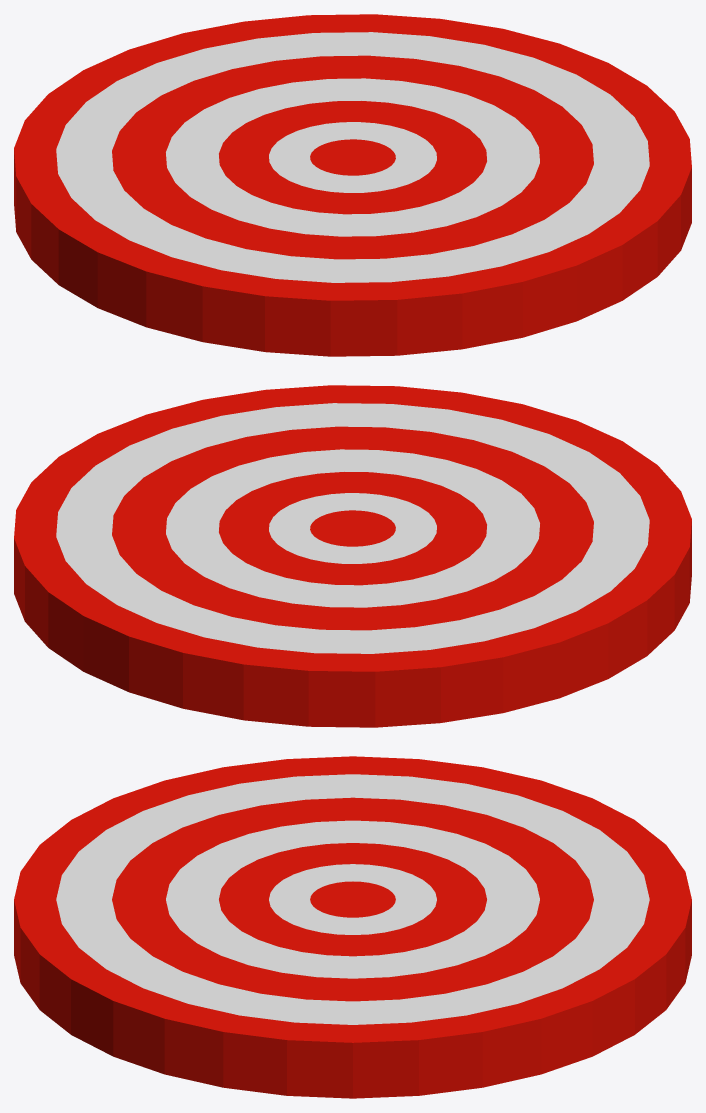
The model's file is Target.fbx.
3 renders of one model, top to bottom at view 1: azimuth 30°, elevation 25°; view 2: azimuth 150°, elevation 25°; view 3: azimuth 270°, elevation 25°, orthographic.
Parts seen in each view (by area): view 1: Cylinder; view 2: Cylinder; view 3: Cylinder.
Boxes of the visible parts, x1,y1,x2,y2 form: Cylinder: [14, 14, 691, 356]; Cylinder: [14, 385, 691, 727]; Cylinder: [14, 756, 691, 1098].
Bounding box in the file's own units: 2 × 0.1815 × 2.
